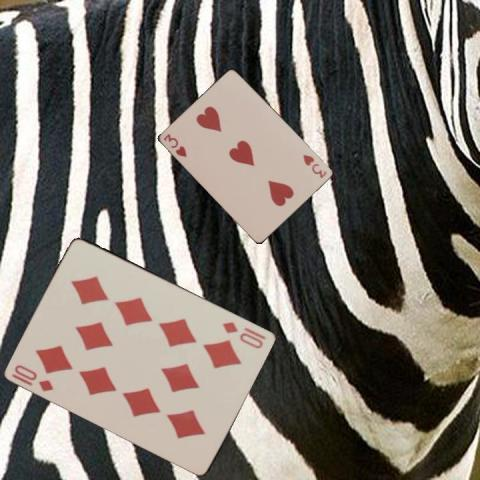10d: (9, 362, 55, 394), (220, 318, 265, 350)
3h: (300, 151, 328, 180), (161, 130, 188, 158)
